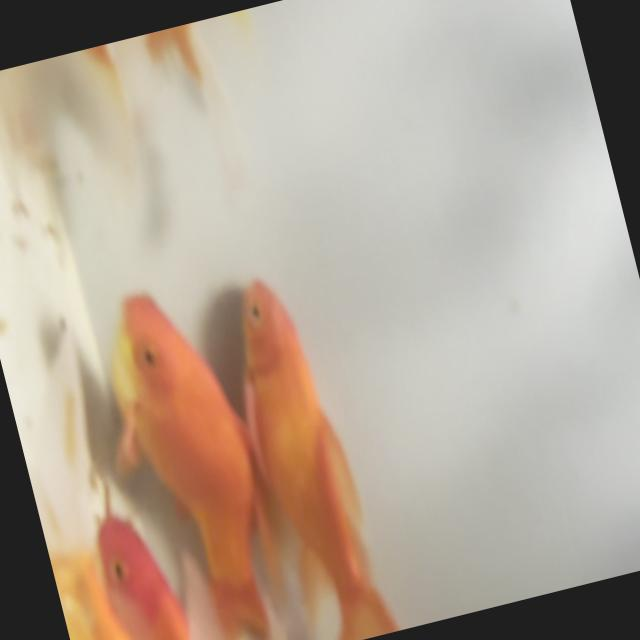fish: (77, 268, 298, 640), (205, 255, 412, 640), (83, 495, 206, 640), (48, 532, 171, 640)
